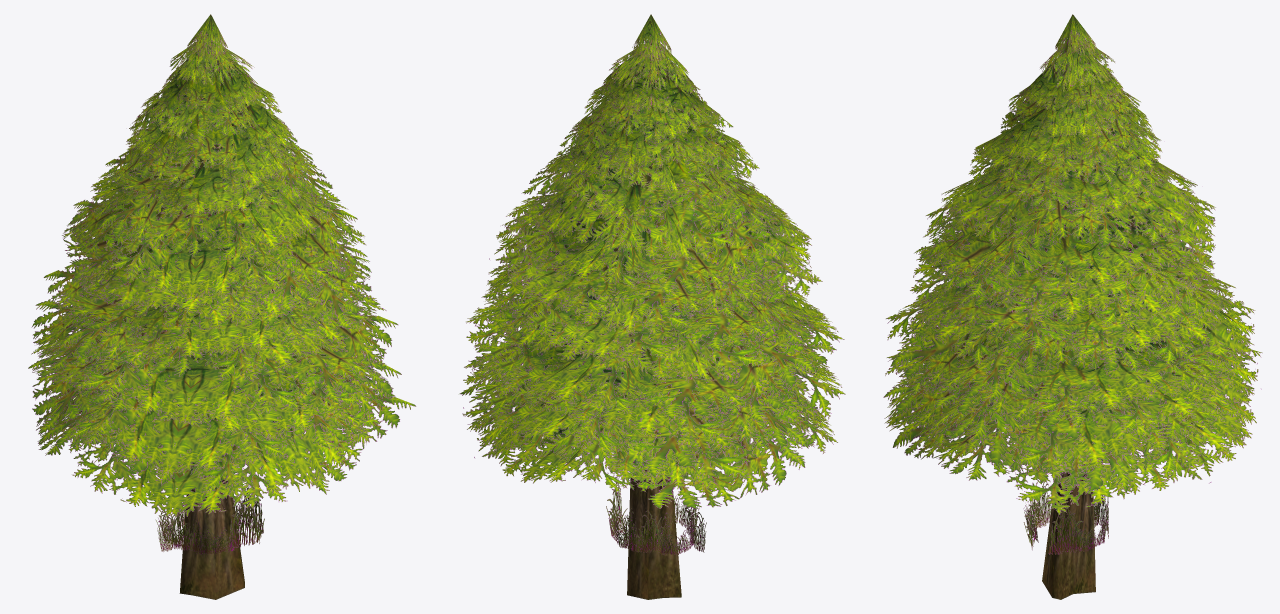
File: n_e3gardentree02.glb
3 views of the same model, side by side, from view 1: azimuth 30°, elevation 25°; view 2: azimuth 150°, elevation 25°; view 3: azimuth 270°, elevation 25° (orthographic).
Visible parts, largest first — view 1: n_e3gardentree02; view 2: n_e3gardentree02; view 3: n_e3gardentree02.
Part boxes in pixels (x1,y1,x2,y2): n_e3gardentree02: (28,14,416,599); n_e3gardentree02: (459,14,845,599); n_e3gardentree02: (883,14,1262,599).
Size of the model in its own units: 3.44 by 5.44 by 3.35.
Materials: 3 (3 with a texture image).
